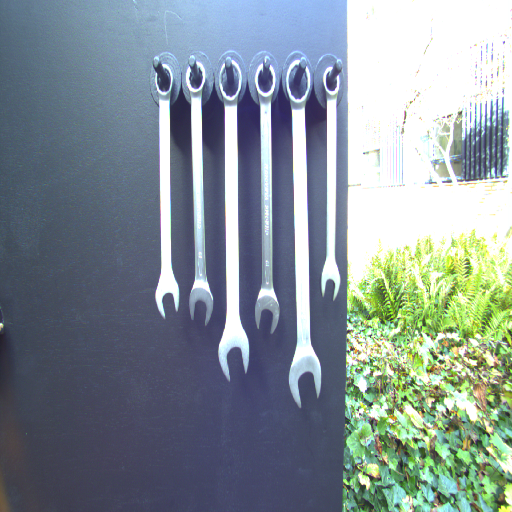bottom: (286, 345, 323, 410), (216, 322, 252, 384), (150, 269, 185, 322), (253, 286, 281, 337), (188, 276, 215, 328), (319, 256, 342, 303)
top: (214, 56, 245, 107), (284, 54, 312, 108), (251, 55, 279, 102), (319, 59, 346, 104), (150, 60, 176, 98), (184, 60, 209, 98)
